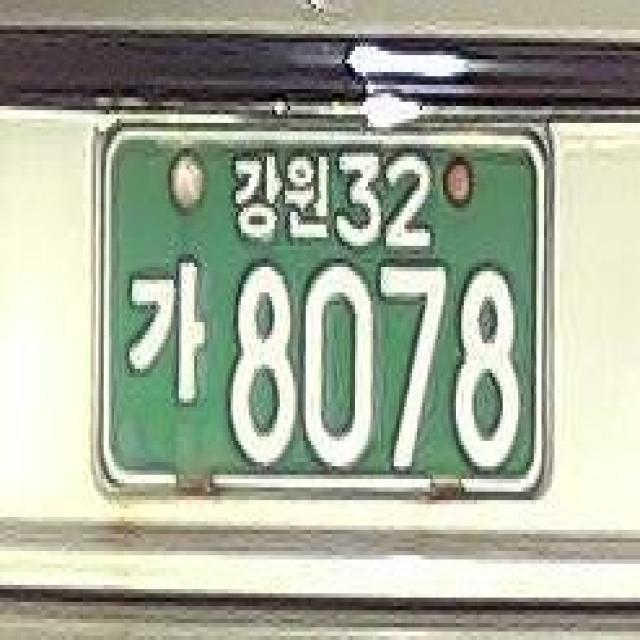illegal_plate: (76, 96, 573, 536)
